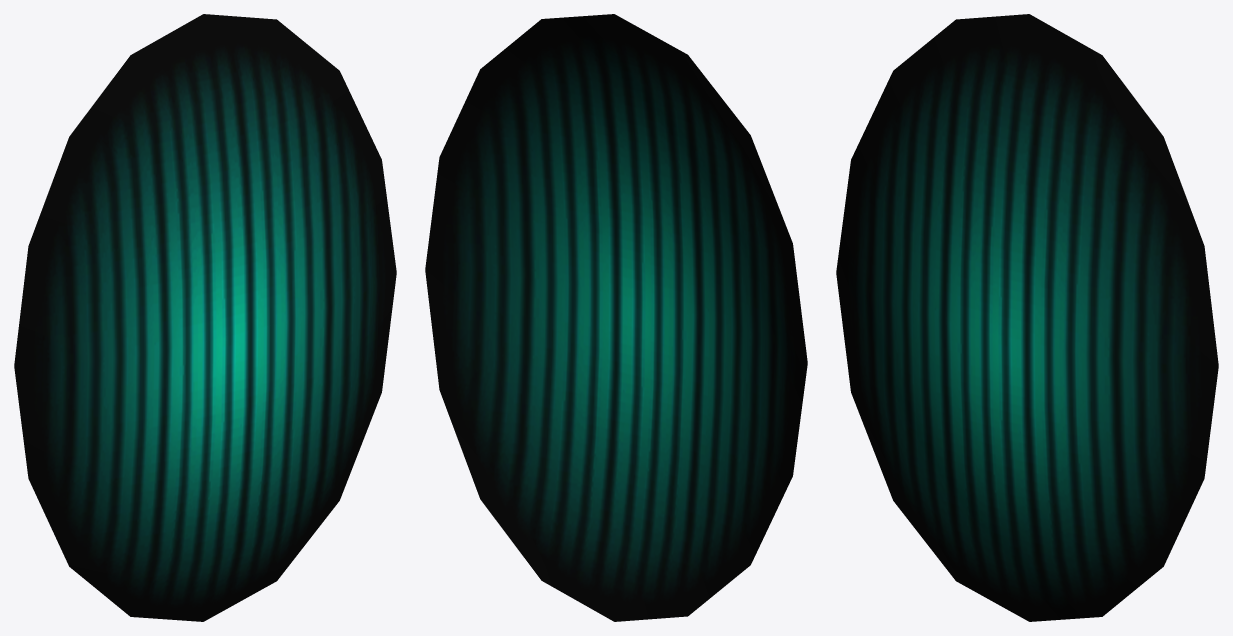
File: Warden_Shield_TRUE_FBX.fbx
The picture shows the model from 3 angles, left to right: view 1: azimuth 30°, elevation 25°; view 2: azimuth 150°, elevation 25°; view 3: azimuth 330°, elevation 25°; orthographic projection.
Visible parts, largest first — view 1: Shield; view 2: Shield; view 3: Shield.
Boxes of the visible parts, left/top/right/bottom form: Shield: left=14, top=14, right=396, bottom=621; Shield: left=425, top=14, right=807, bottom=621; Shield: left=836, top=14, right=1218, bottom=621.
Size of the model in its own units: 0.9852 by 0.1121 by 1.5.
